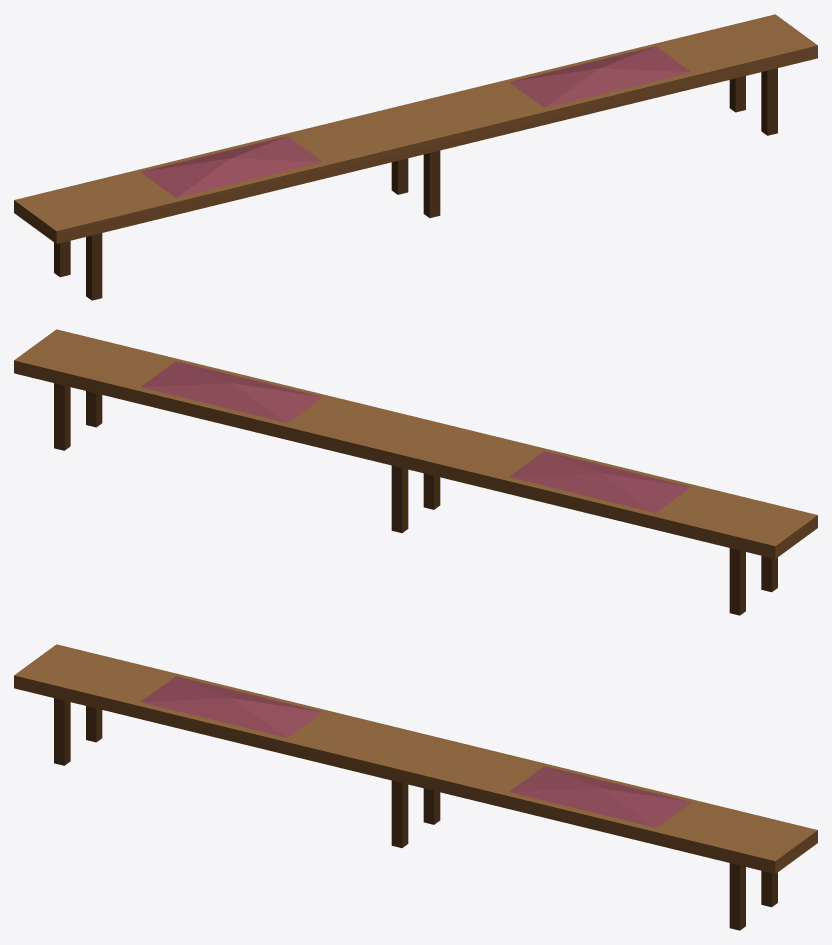
The model's file is guestbench.glb.
The picture shows the model from 3 angles, top to bottom: view 1: azimuth 30°, elevation 25°; view 2: azimuth 150°, elevation 25°; view 3: azimuth 330°, elevation 25°; orthographic projection.
Visible parts, largest first — view 1: base; view 2: base; view 3: base.
Boxes of the visible parts, bbox=[...] form: base: bbox=[14, 14, 817, 300]; base: bbox=[14, 329, 817, 615]; base: bbox=[14, 644, 817, 930].
Bounding box in the file's own units: 1.24 × 0.14 × 0.12.
